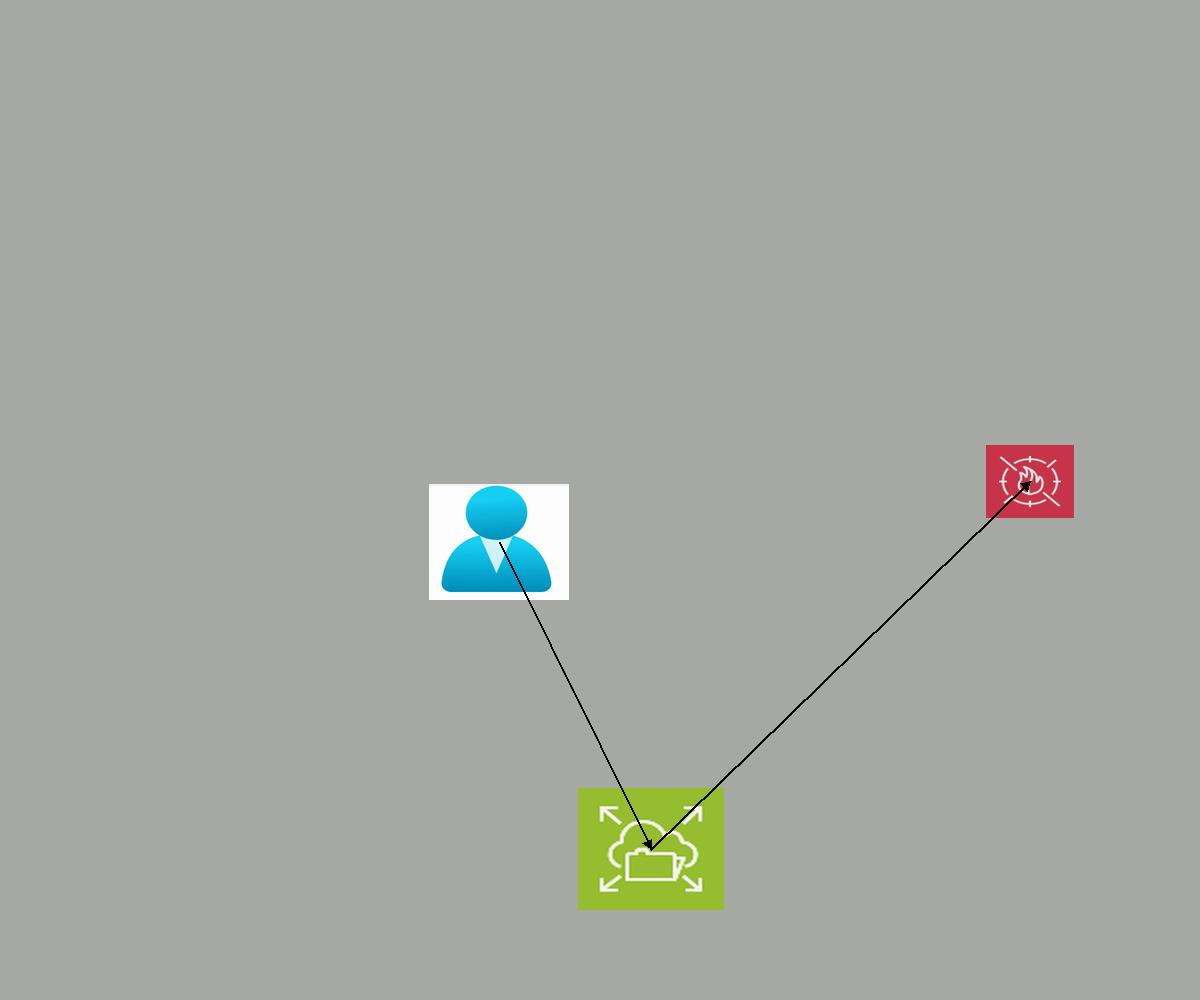AWS-EFS: (578, 788, 724, 910)
AWS-WAF: (986, 445, 1074, 518)
Azure_users: (429, 484, 569, 600)
